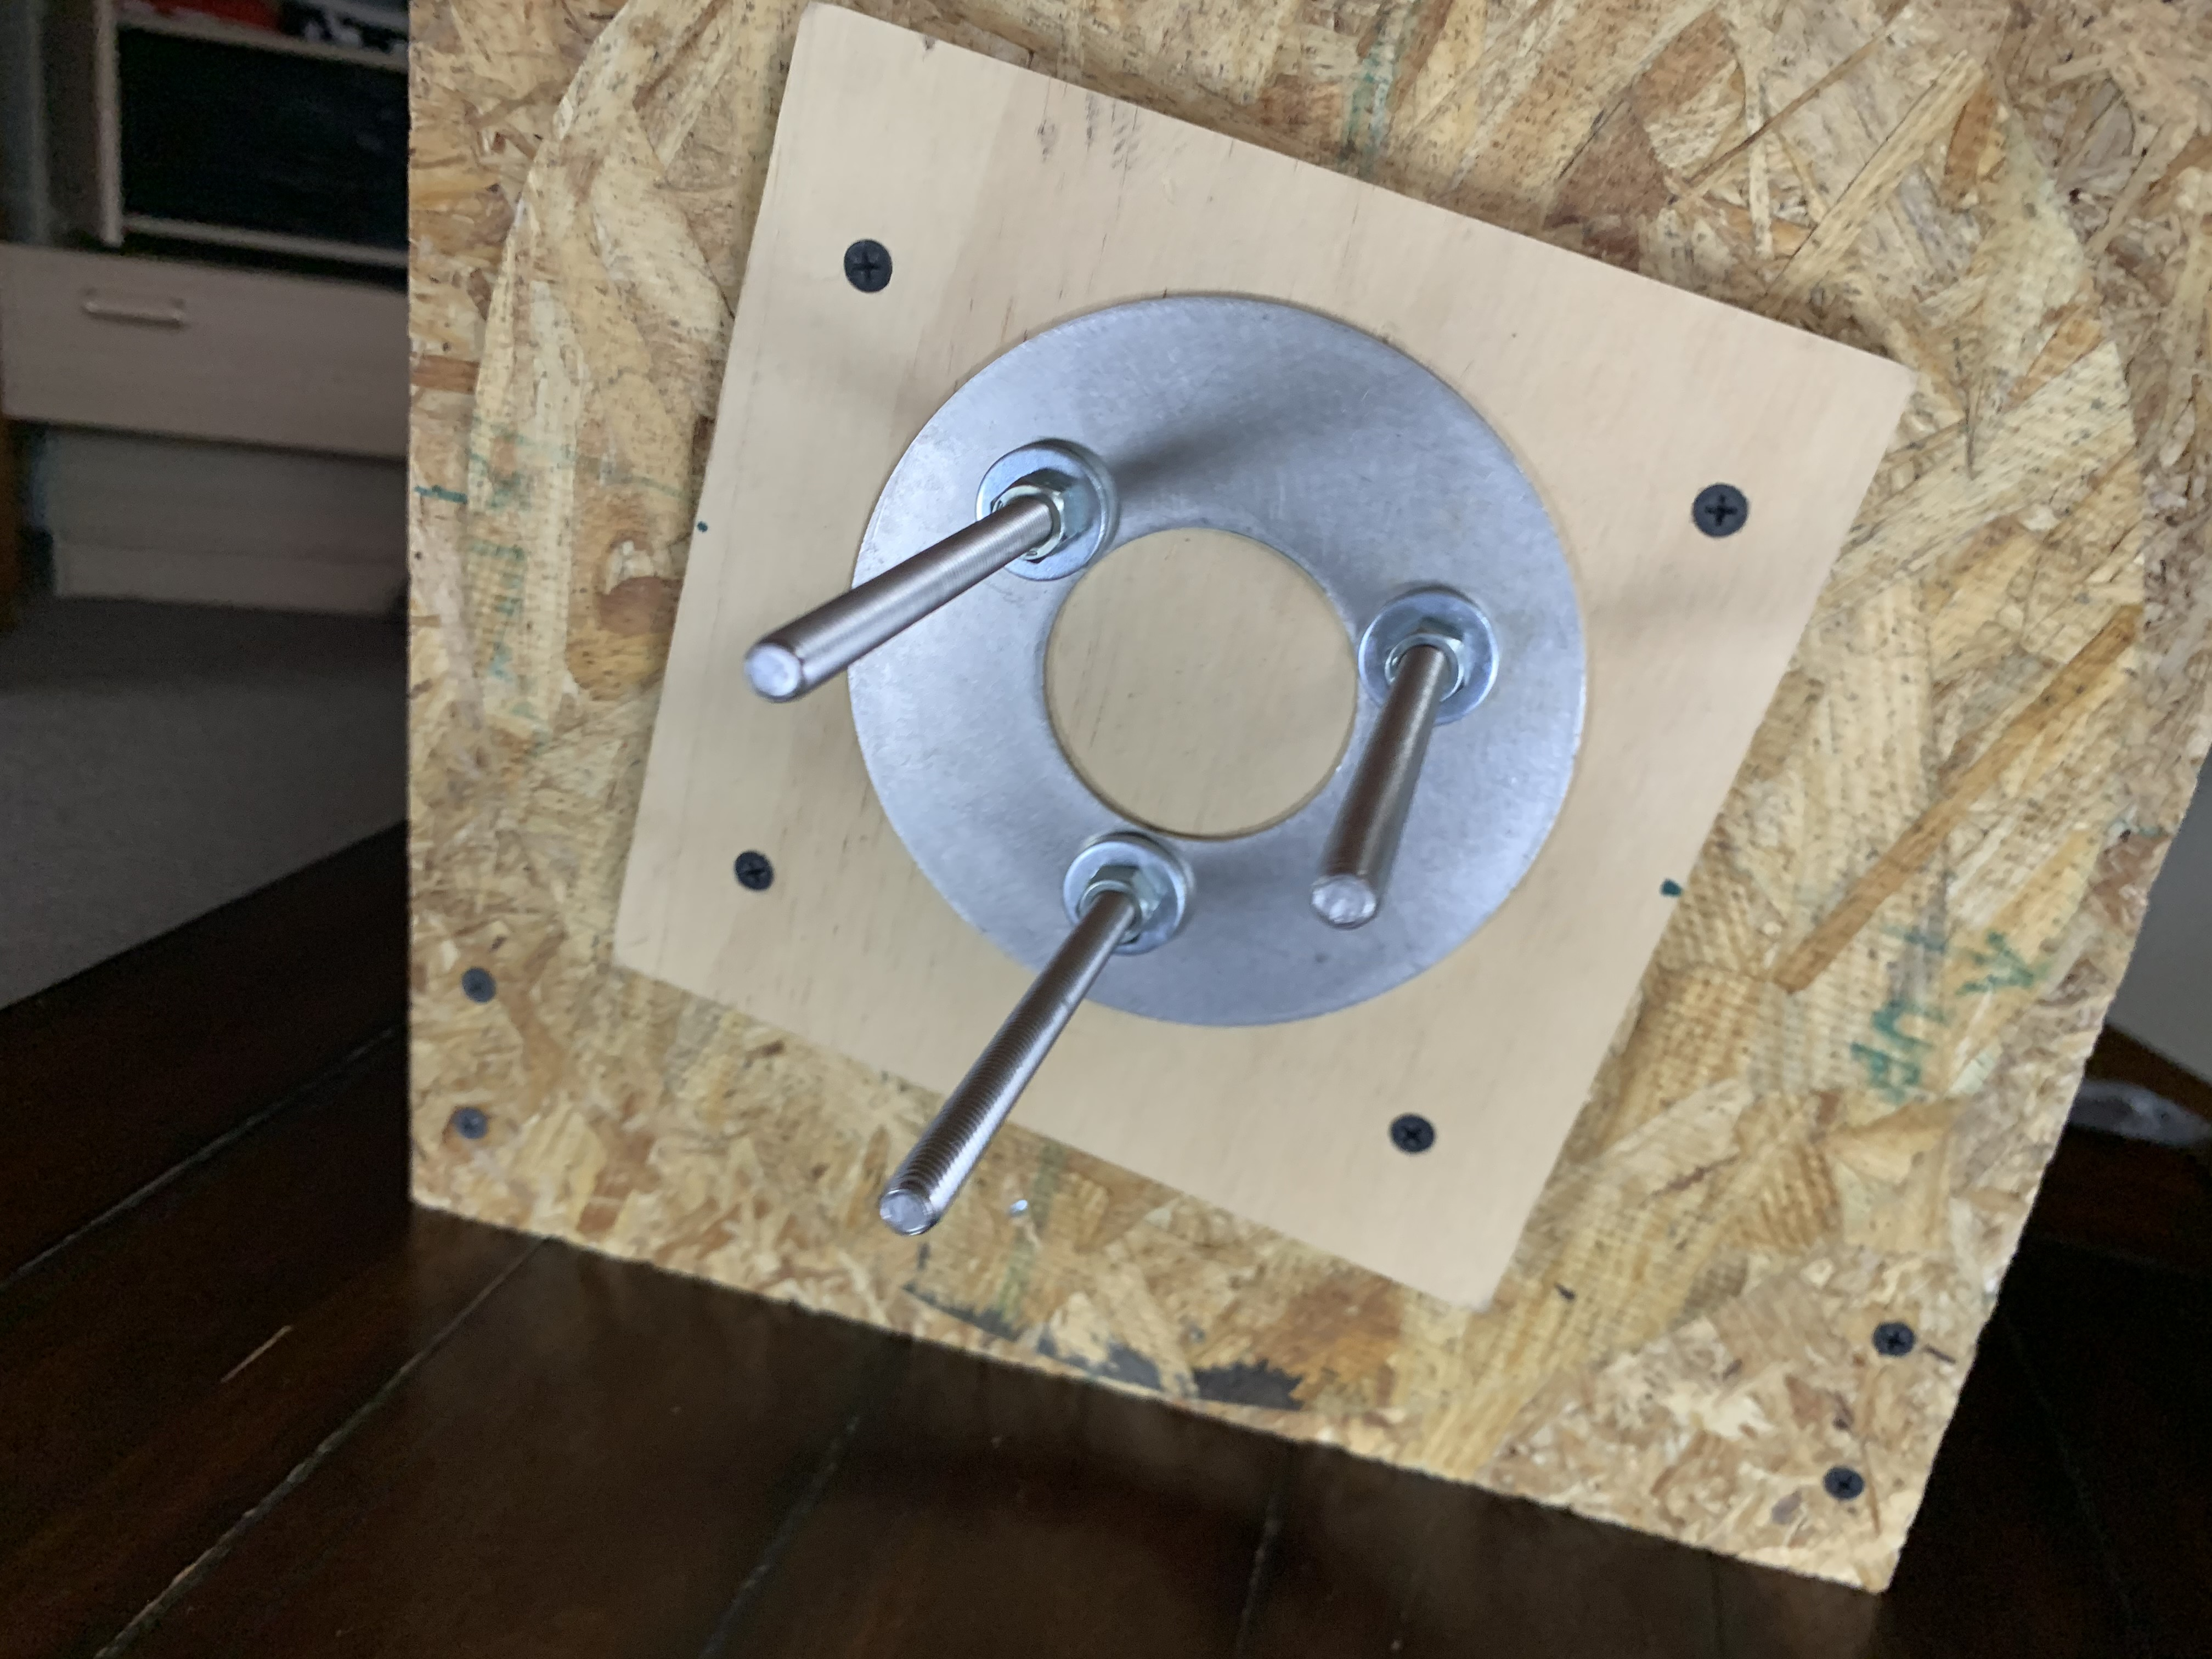bolt: (975, 439, 1118, 579), (1360, 587, 1498, 732), (1061, 830, 1200, 951)
